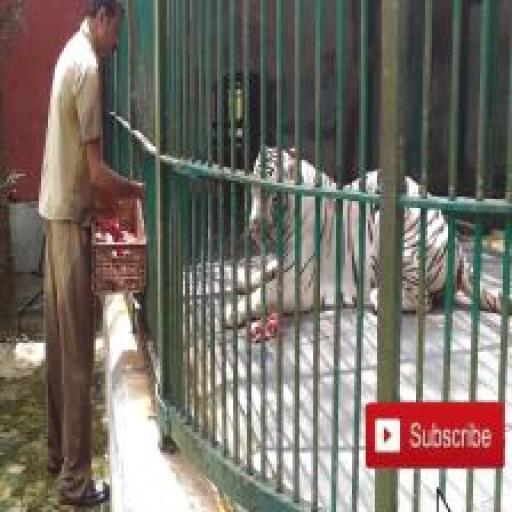Tiger: (224, 146, 511, 330)
